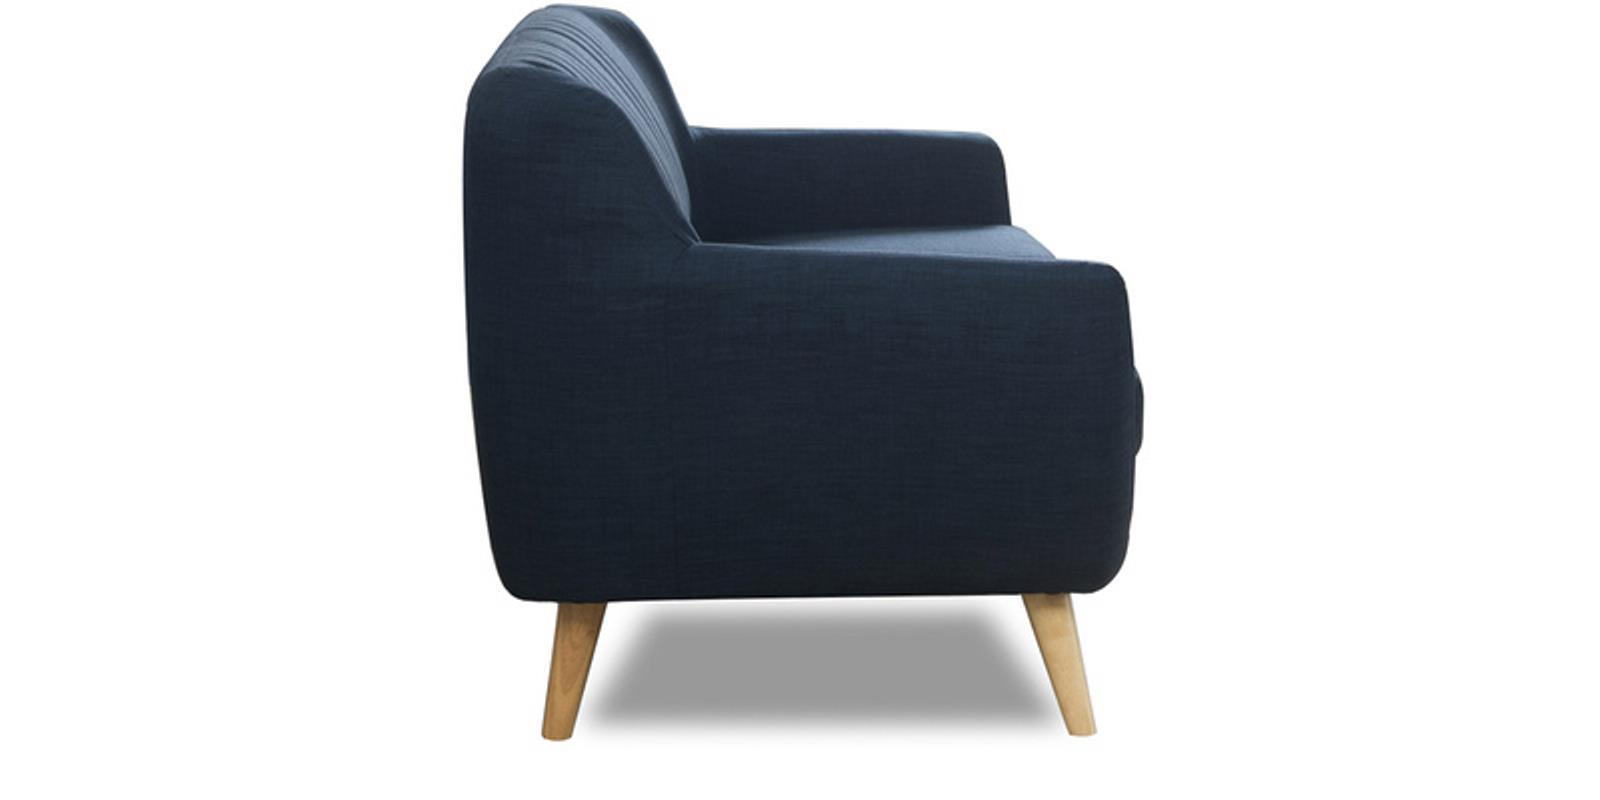Managua Three Seater Sofa in Blue Colour by CasaCraft: (464, 1, 1146, 741)
